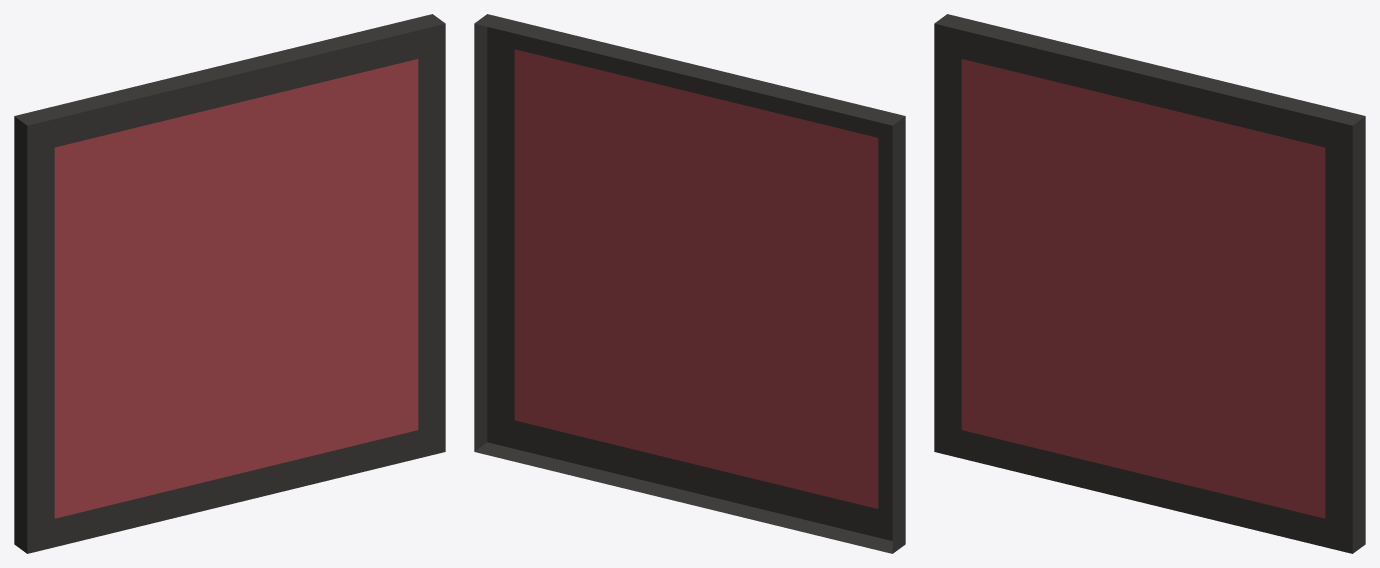
The model's file is Paint_2.fbx.
3 renders of one model, left to right at view 1: azimuth 30°, elevation 25°; view 2: azimuth 150°, elevation 25°; view 3: azimuth 330°, elevation 25°, orthographic.
Visible parts, largest first — view 1: polySurface859; view 2: polySurface859; view 3: polySurface859.
Part boxes in pixels (box(x1,y1,x2,y2)): polySurface859: box(14, 14, 445, 553); polySurface859: box(474, 14, 905, 553); polySurface859: box(934, 14, 1365, 553).
Bounding box in the file's own units: 1.47 × 1.44 × 0.08.
Materials: 1 (1 with a texture image).
